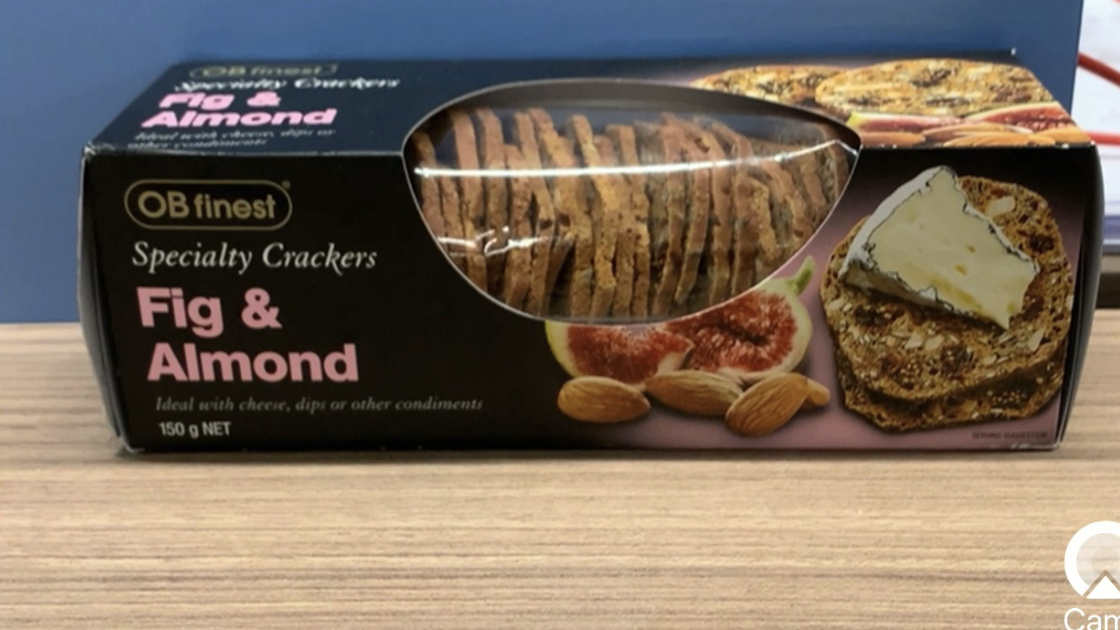crackers_150g: (115, 167, 1044, 448)
